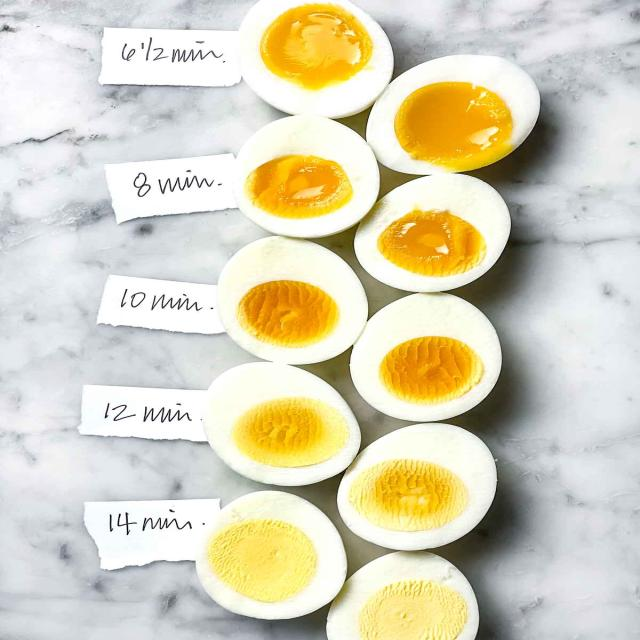boiled egg: (366, 55, 540, 175), (338, 423, 497, 550), (203, 362, 361, 486), (350, 293, 501, 421), (197, 491, 347, 619), (218, 237, 368, 364), (355, 174, 510, 292), (239, 0, 393, 118), (234, 116, 379, 238), (327, 552, 478, 639)
